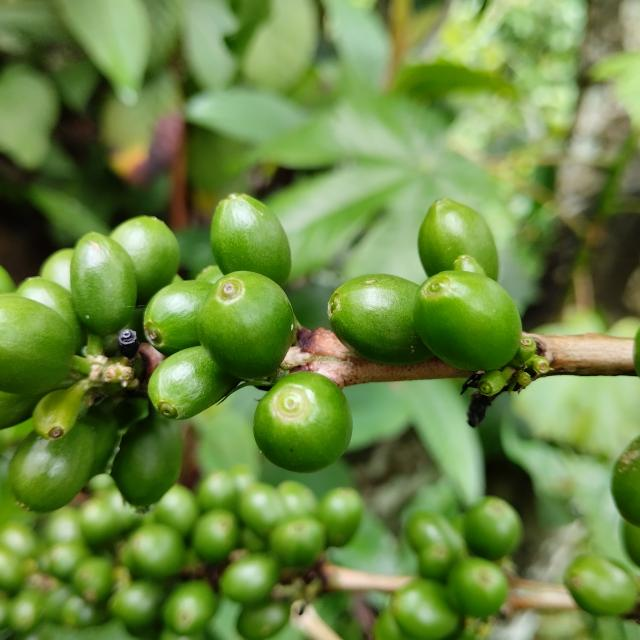green: (414, 269, 522, 371), (197, 271, 295, 380), (253, 372, 352, 473), (328, 274, 434, 365), (7, 423, 94, 513), (0, 294, 75, 395), (210, 193, 291, 286), (111, 406, 182, 507), (70, 232, 137, 337), (147, 346, 240, 420), (418, 198, 499, 281), (109, 215, 180, 305), (14, 277, 86, 352), (143, 280, 212, 356), (38, 248, 73, 291), (195, 265, 223, 284)
